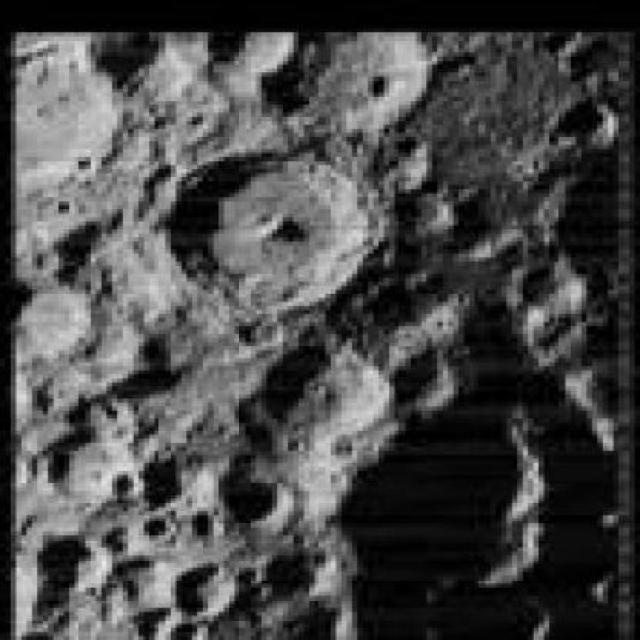crater: (161, 150, 387, 312)
